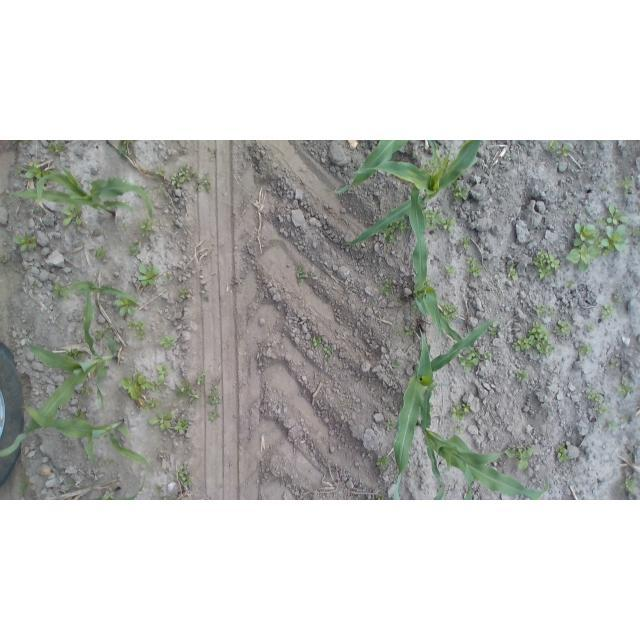Maize: (393, 320, 505, 501), (1, 289, 118, 455), (343, 141, 481, 244), (415, 420, 549, 501), (410, 182, 464, 345), (0, 164, 154, 220), (17, 406, 151, 469), (323, 141, 429, 196), (410, 452, 474, 500), (62, 280, 139, 304), (83, 473, 145, 500)
Weeds: (566, 222, 603, 272), (513, 322, 555, 358), (530, 248, 561, 279), (505, 445, 534, 471), (603, 225, 627, 256), (459, 347, 480, 373), (139, 263, 160, 286), (62, 204, 83, 227), (172, 167, 195, 188), (13, 232, 37, 252), (134, 373, 159, 392), (607, 204, 630, 224), (148, 413, 172, 432), (441, 302, 459, 327), (421, 207, 441, 229), (121, 377, 140, 400), (451, 403, 474, 422), (115, 297, 136, 316), (175, 379, 193, 398), (140, 398, 161, 414), (618, 177, 635, 196), (467, 257, 482, 278), (140, 219, 157, 237), (177, 467, 193, 486), (26, 161, 42, 180), (52, 282, 69, 299), (62, 348, 86, 360), (555, 442, 569, 462), (156, 364, 169, 385), (452, 186, 468, 203), (47, 141, 65, 156), (17, 476, 30, 496), (72, 406, 88, 422), (554, 321, 571, 336), (618, 380, 633, 397), (381, 227, 396, 244), (601, 302, 615, 320), (536, 305, 555, 318), (207, 389, 221, 406), (159, 335, 176, 349), (297, 266, 308, 287), (196, 178, 211, 193), (588, 390, 604, 404), (621, 479, 637, 493), (441, 217, 455, 233), (381, 279, 394, 296), (516, 369, 531, 383), (376, 456, 390, 471), (423, 159, 437, 174), (175, 418, 189, 433), (399, 214, 409, 234), (41, 169, 55, 183), (94, 247, 106, 262), (128, 320, 145, 330), (197, 372, 209, 386), (178, 285, 190, 299), (450, 422, 464, 434), (557, 145, 570, 157), (577, 345, 591, 356), (507, 266, 517, 281), (606, 419, 618, 431), (547, 140, 559, 152), (130, 241, 139, 256), (460, 237, 472, 248), (595, 406, 609, 415), (405, 325, 416, 336), (117, 145, 128, 156), (628, 226, 640, 236), (138, 190, 151, 199), (312, 337, 322, 348), (66, 479, 77, 489), (445, 265, 455, 276), (209, 410, 219, 421), (80, 387, 92, 396), (189, 393, 199, 403), (94, 330, 104, 340), (135, 331, 146, 340), (161, 496, 179, 501), (386, 420, 394, 431), (390, 220, 399, 229), (1, 255, 10, 264), (424, 276, 434, 284), (613, 294, 623, 302), (447, 181, 457, 189), (566, 281, 575, 289), (587, 322, 596, 330), (610, 360, 618, 369), (156, 486, 164, 495), (14, 166, 23, 174), (156, 167, 165, 175), (489, 328, 499, 335), (323, 347, 333, 354), (392, 362, 400, 370), (598, 217, 606, 225), (117, 140, 133, 144), (412, 304, 419, 313), (104, 325, 113, 332), (375, 494, 385, 500), (484, 352, 492, 359), (621, 416, 629, 423), (165, 273, 171, 282), (21, 329, 28, 335), (324, 354, 329, 362), (429, 401, 433, 411), (107, 460, 114, 465), (121, 224, 126, 231), (161, 387, 167, 392), (203, 297, 209, 302), (71, 276, 77, 281), (108, 334, 114, 339), (447, 160, 453, 165), (507, 154, 512, 160), (24, 140, 30, 145), (31, 209, 36, 215), (31, 284, 36, 289), (104, 365, 109, 370), (603, 186, 608, 191), (568, 209, 573, 214), (391, 208, 396, 212), (397, 333, 403, 336), (361, 378, 364, 381), (597, 140, 601, 142)
